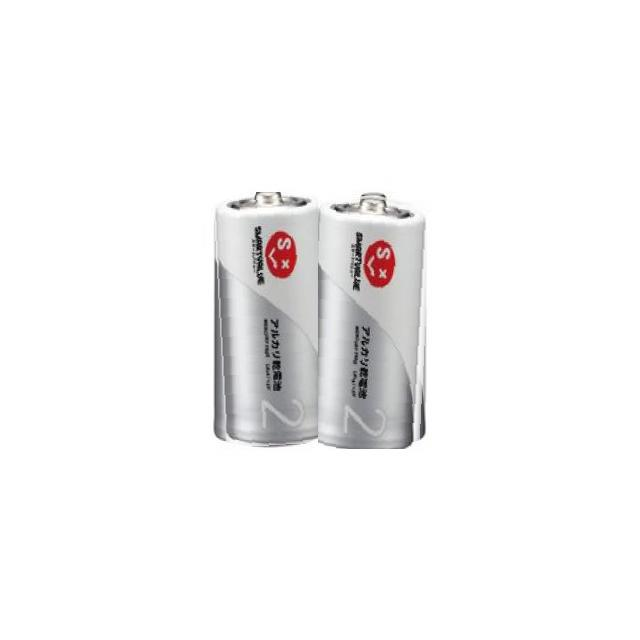battery: (318, 192, 432, 449), (213, 192, 321, 448)
